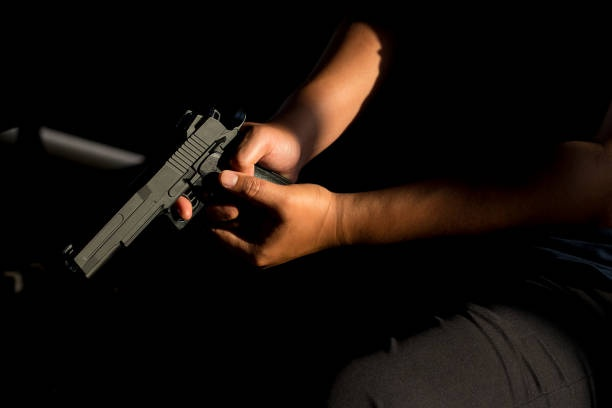pistol: (65, 109, 299, 279)
